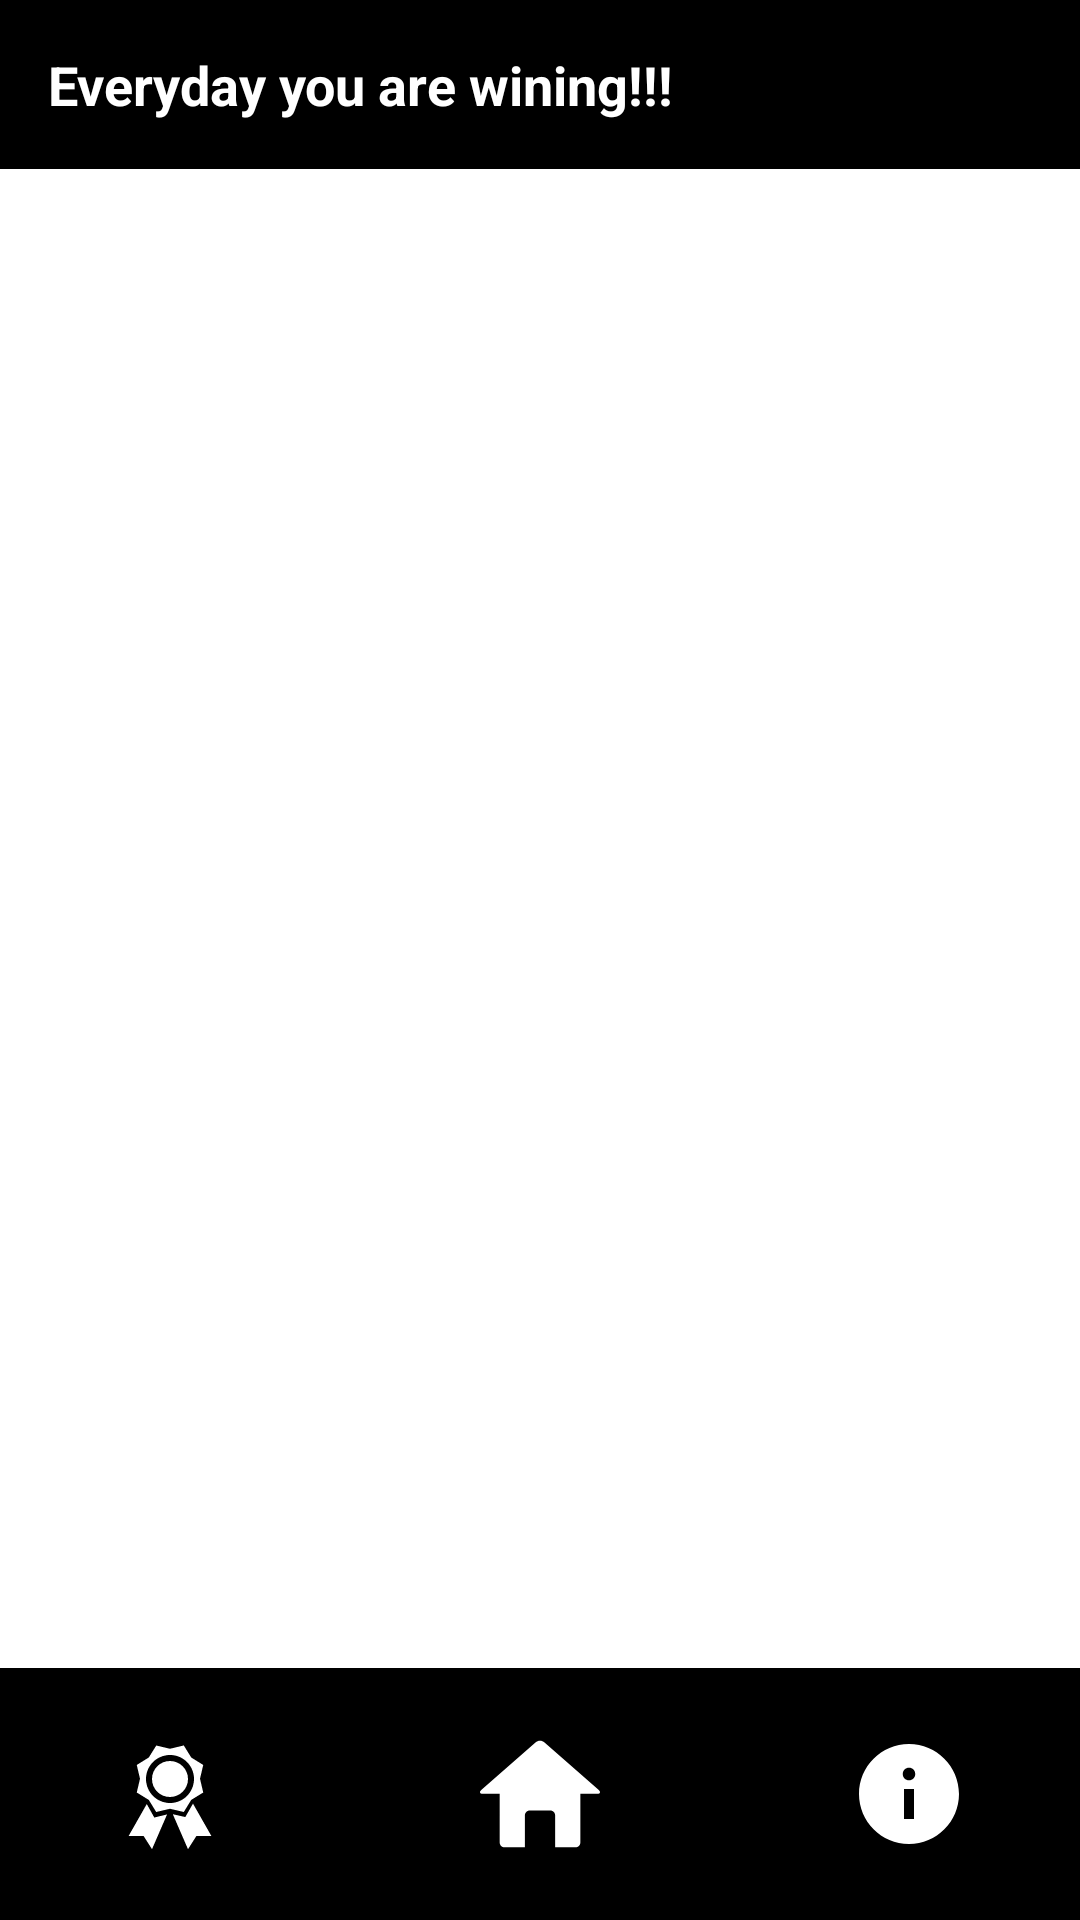

Named icons in this screenshot (1080 × 1920) and their bounding boxes, bbox(x1, y1, x2, y2):
About: bbox(859, 1744, 959, 1844)
Badge: bbox(128, 1745, 212, 1849)
Home: bbox(480, 1740, 600, 1848)
